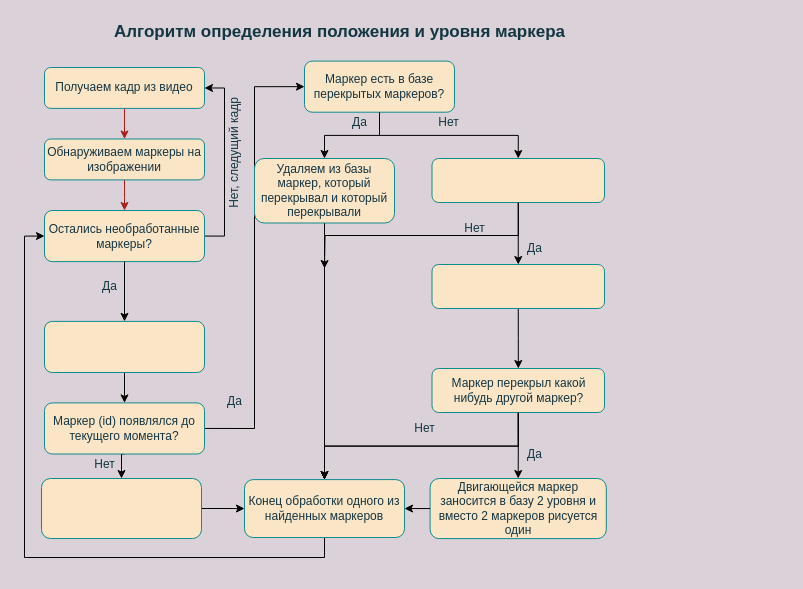
Image size: 803x589. Some labels were removed from this diagram. The shapes that lost their labels are listed below. From the top down, each one's centre as x and y in pixels, then its label:
point 517,180: Маркер сдвинулся относительно своего положения 2 кадра назад?
point 517,286: Запоминаем id маркера как последний движущейся маркер
point 124,346: Вычисляем угол маркера (0-360)
point 121,508: Добавляем id маркера в базу первого уровня
